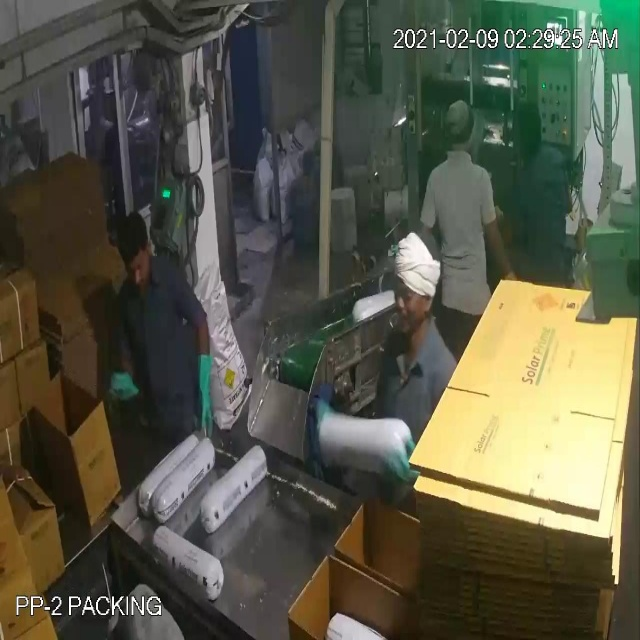Guantes: (180, 342, 220, 447), (98, 356, 150, 415)
Sin_guantes: (482, 203, 524, 287)
